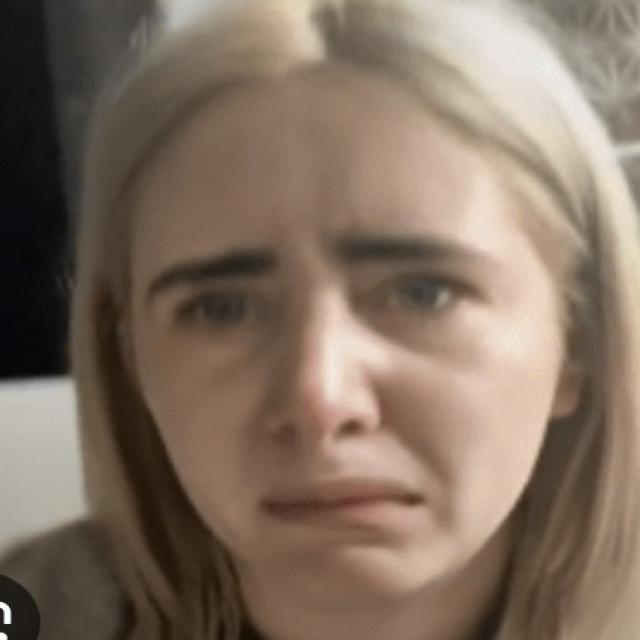sad: (94, 153, 601, 580)
